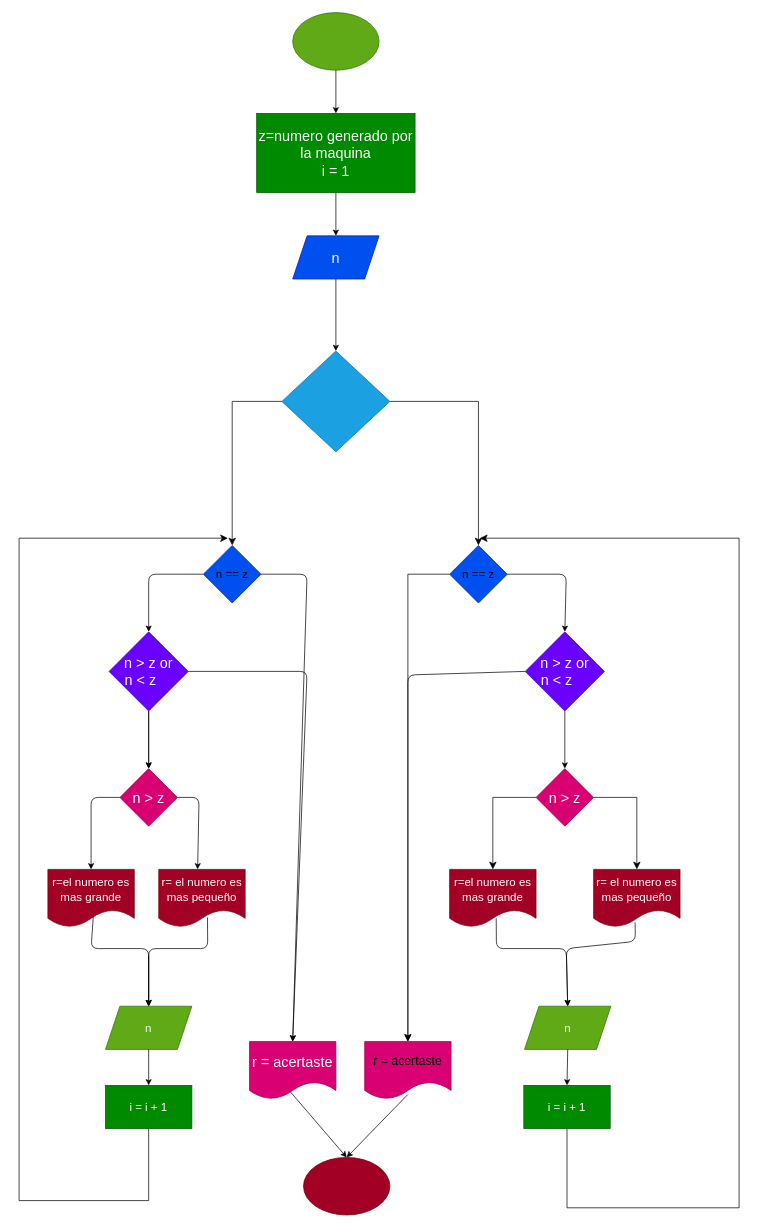
Image size: 759x1228. Some labels were removed from this diagram. Each missing label, with the centre of its shape:
fin: (x=346, y=1186)
inicio: (x=335, y=41)
nivel de dificultad == 1: (x=335, y=401)
